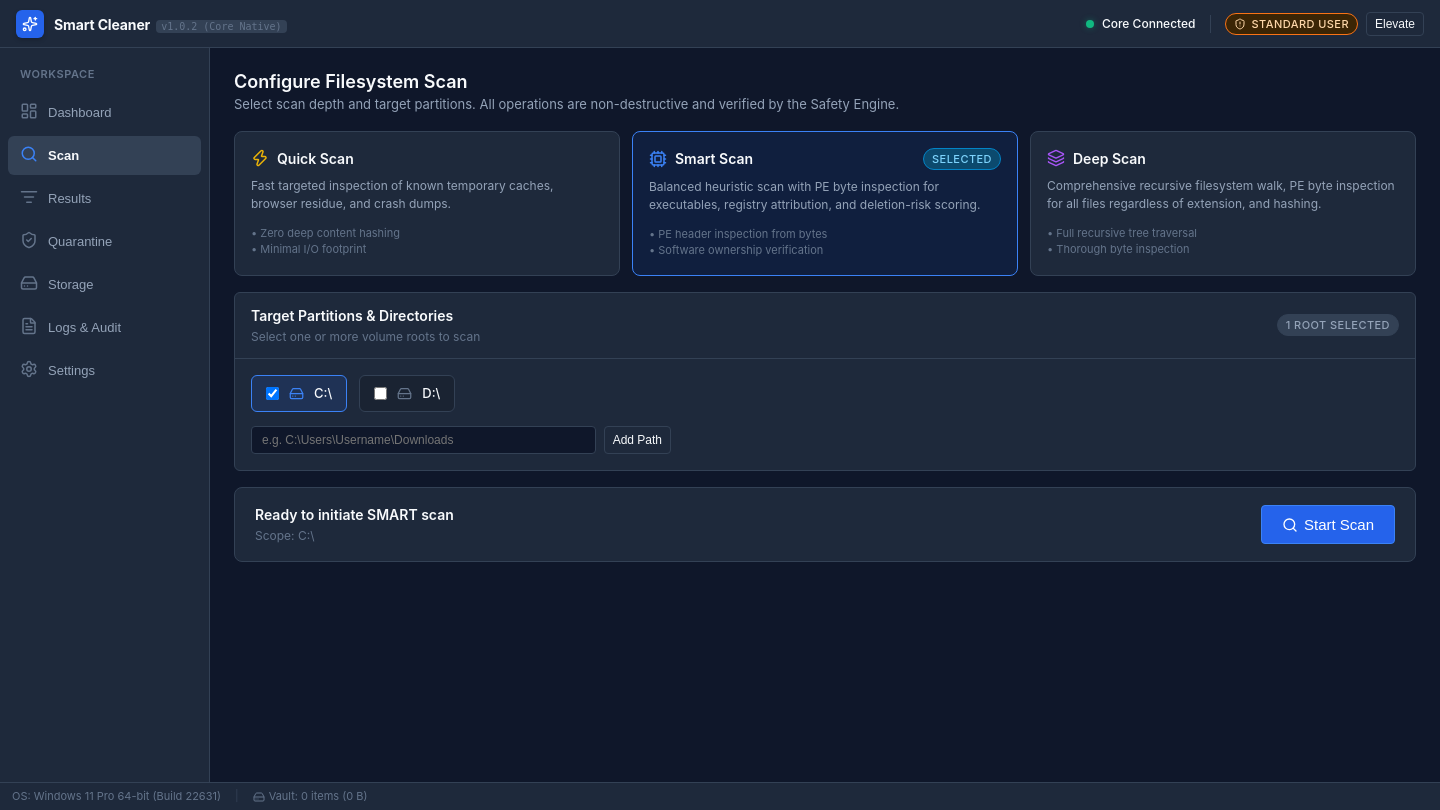
Test case: M3.3 — Scan Workflow & State Machine › handles target roots and custom directory additions
The width and height of the screenshot is (1440, 810).
Expected: the text "Core Connected" is shown, top-left (1102, 14), bottom-right (1196, 32)
Expected: the heading "Configure Filesystem Scan" is shown, top-left (234, 71), bottom-right (468, 92)
Add custom path
Type "E:\\Games" into the field with placeholder "e.g. C:\\Users\\Username\\Downloads" at (423, 440), box top-left (251, 426), bottom-right (596, 454)
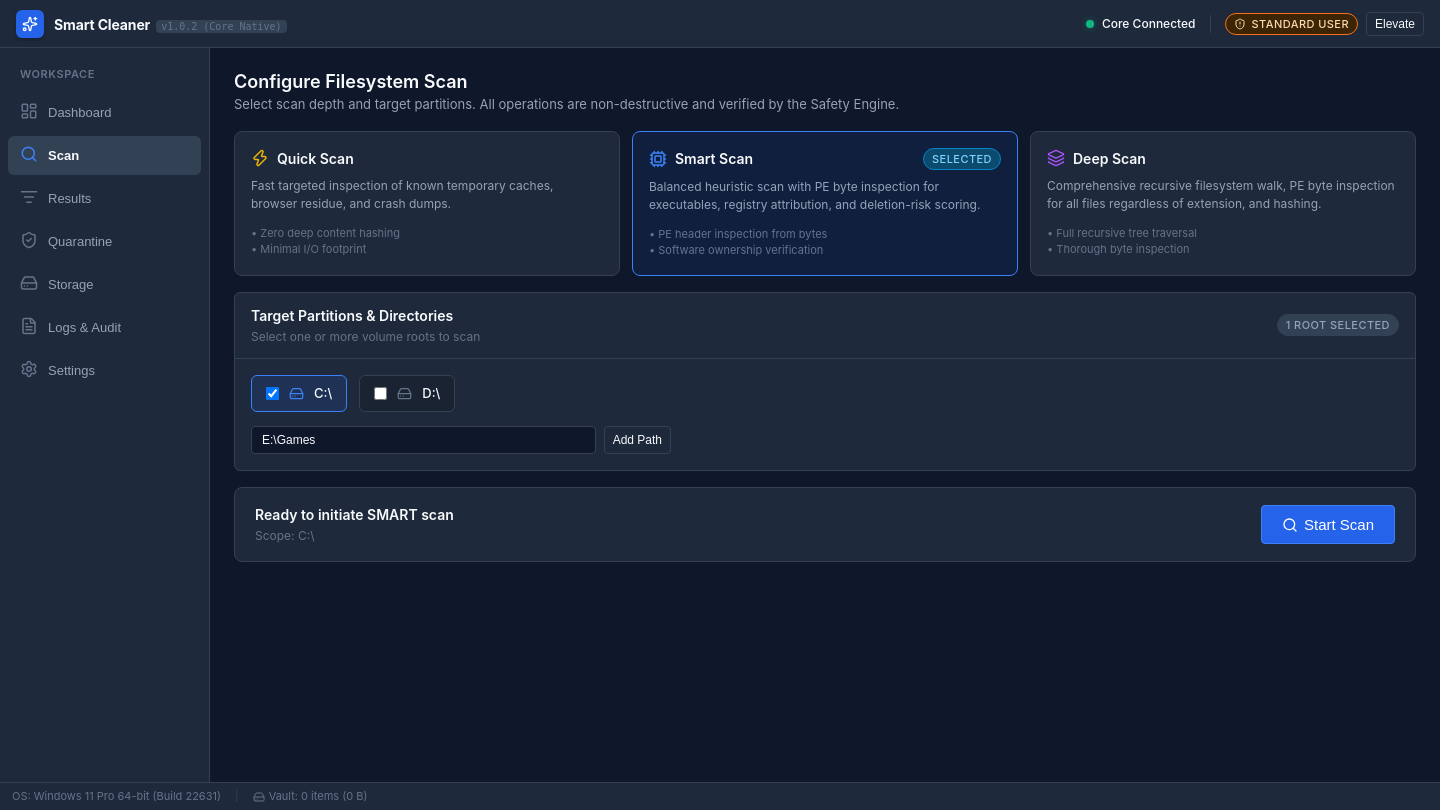
Click the button "Add Path" at (637, 440), box top-left (604, 426), bottom-right (671, 454)
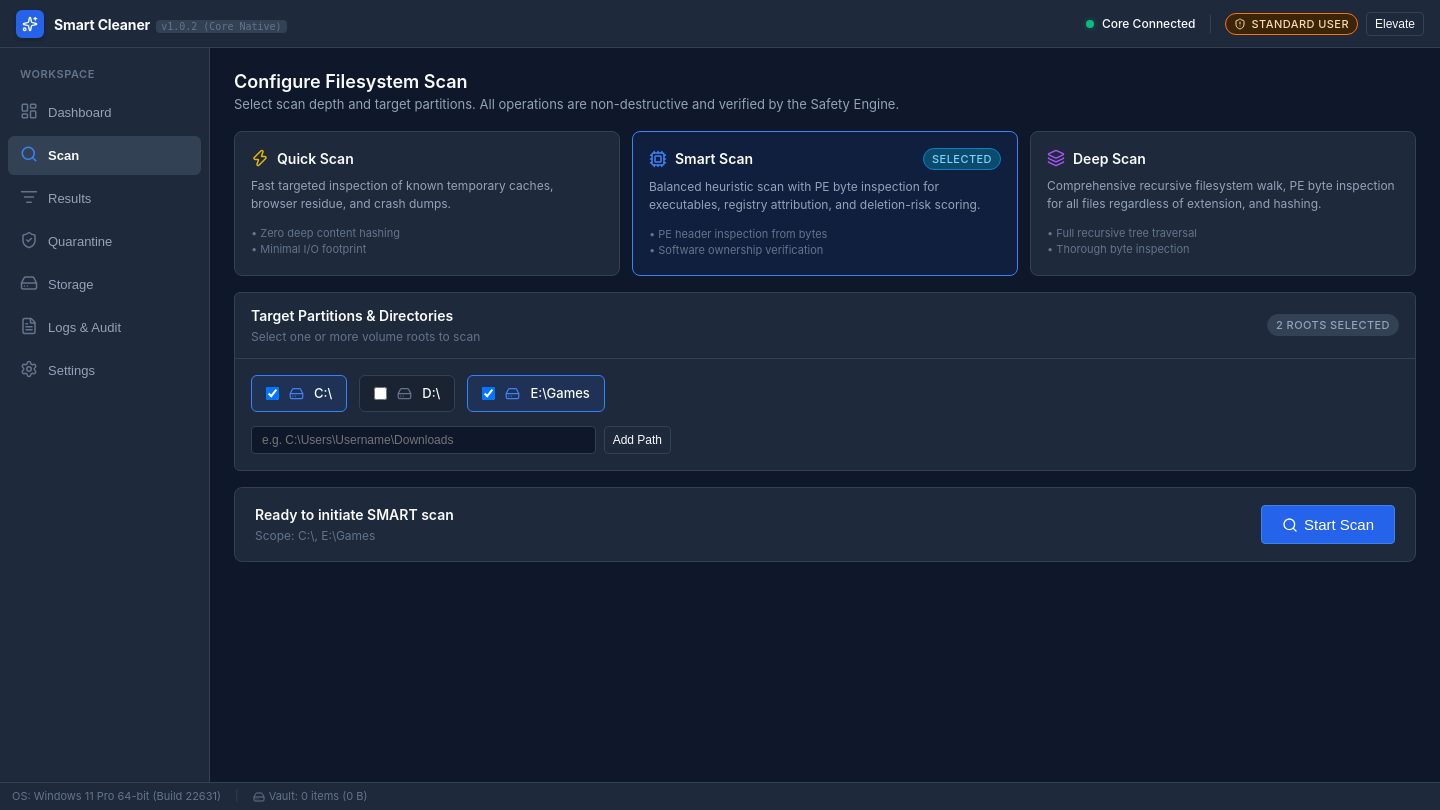
Expected: the text "E:\\Games" is shown, top-left (530, 384), bottom-right (590, 403)
Expected: the text "2 Roots Selected" is shown, top-left (1267, 314), bottom-right (1399, 336)
